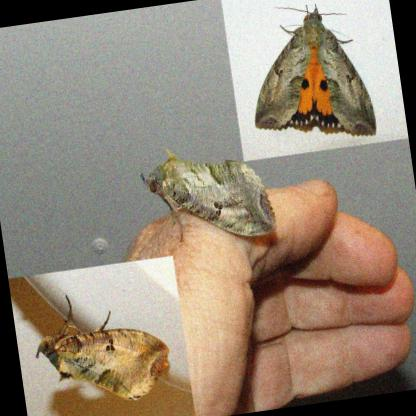fruit sucking moth: (254, 9, 375, 137)
